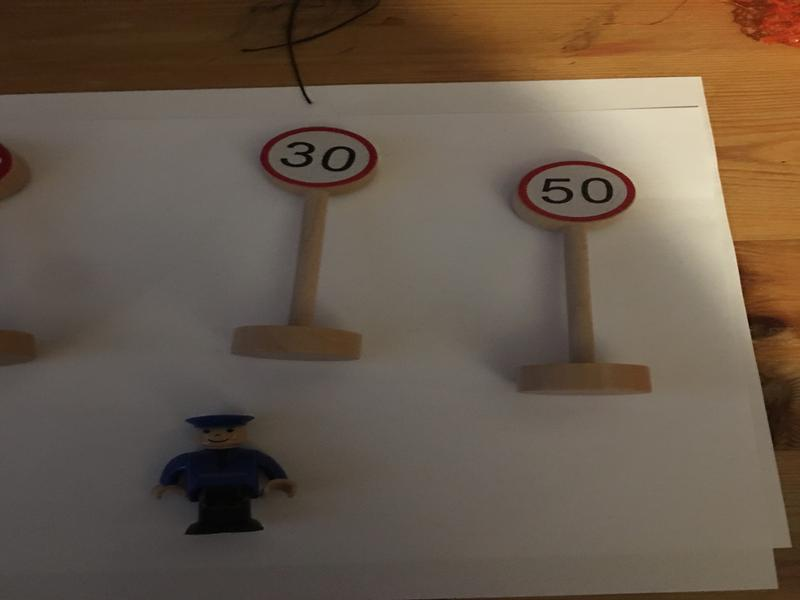Traffic_Sign_30: (261, 128, 378, 187)
Traffic_Sign_50: (518, 163, 635, 222)
person: (151, 414, 297, 537)
